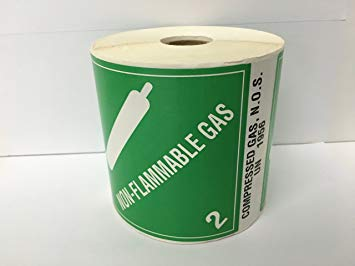NonFlammableGas: (90, 52, 252, 242)
